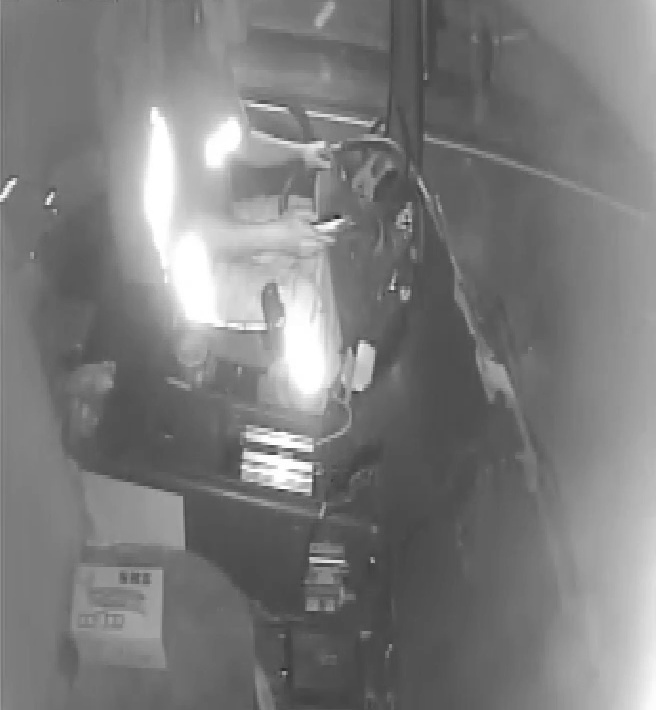cellphone: (300, 212, 356, 237)
